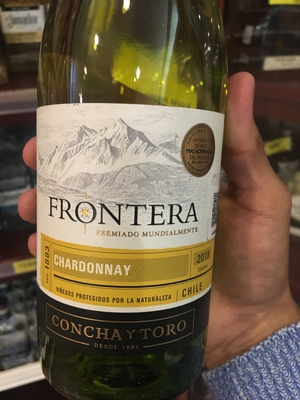frontera chardonnay: (26, 29, 227, 386)
